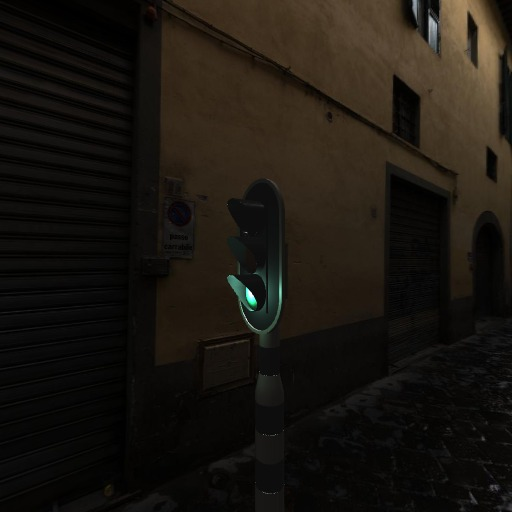Green_Light: (226, 177, 287, 337)
